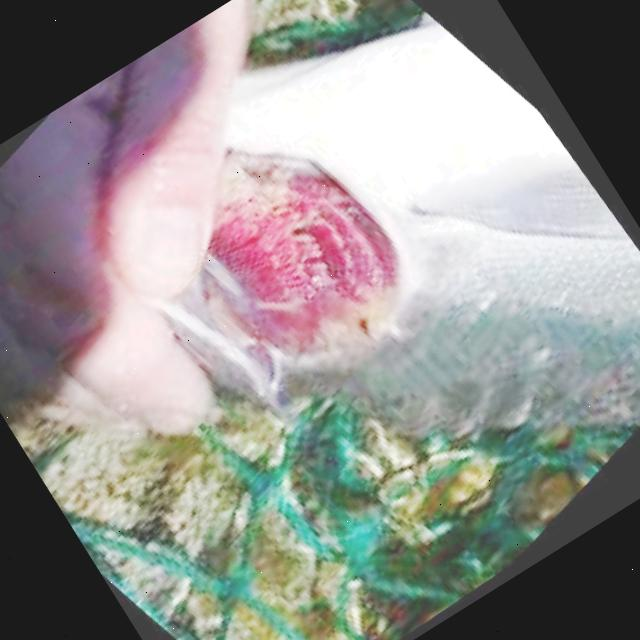Flavobacterium -Bacterial Gill Disease-: (164, 23, 640, 436)
